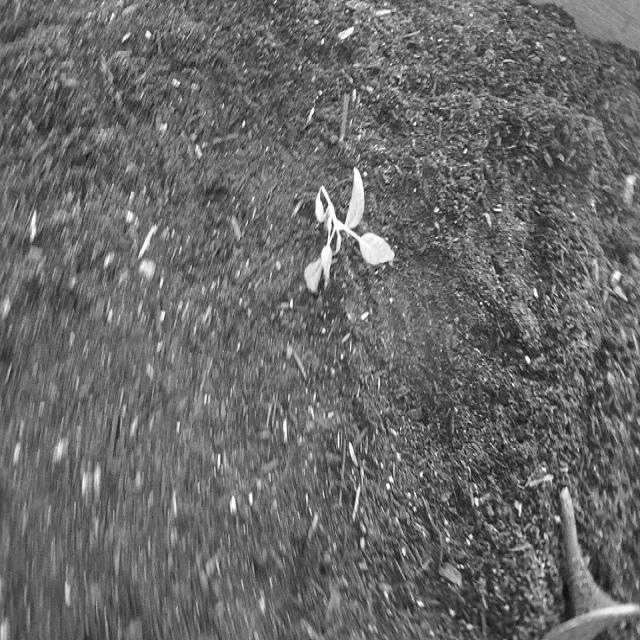Healthy: (304, 164, 401, 302)
